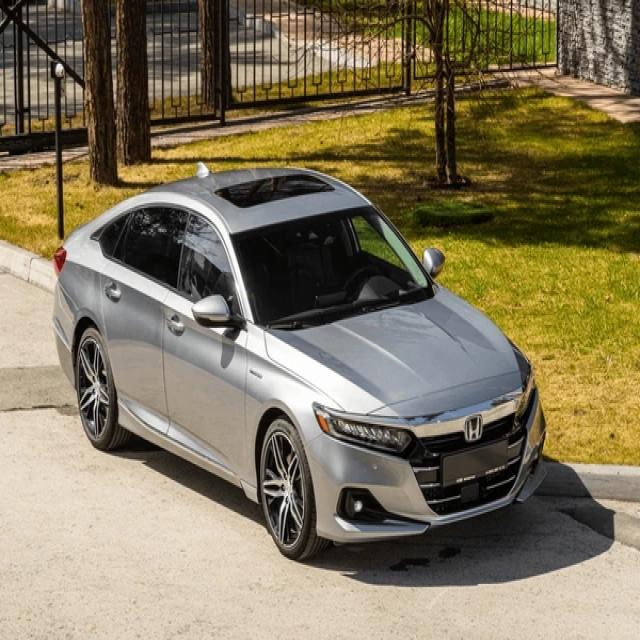honda: (464, 414, 485, 444)
